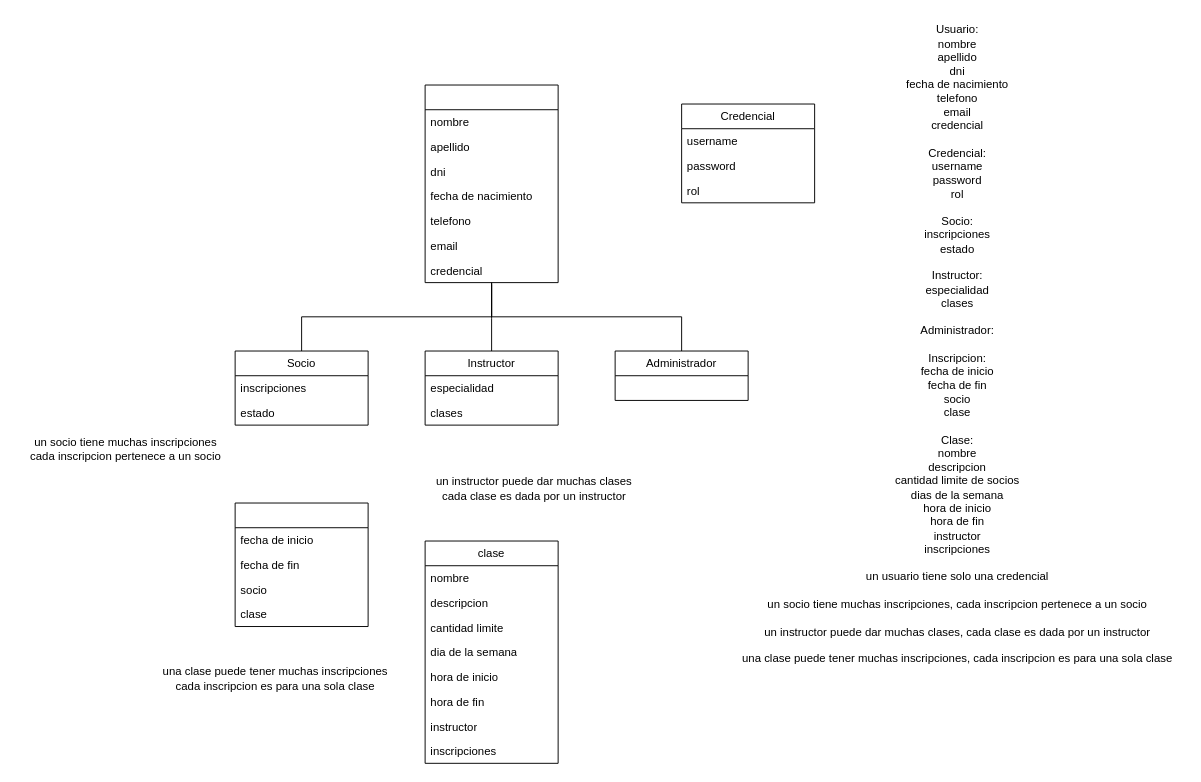
Image size: 1201x782. Some labels were removed from this diagram. Here are the shapes that lost their labels. From the top down, the box of each, then its label:
(424, 84, 558, 283): Usuario
(234, 502, 368, 627): inscripcion
